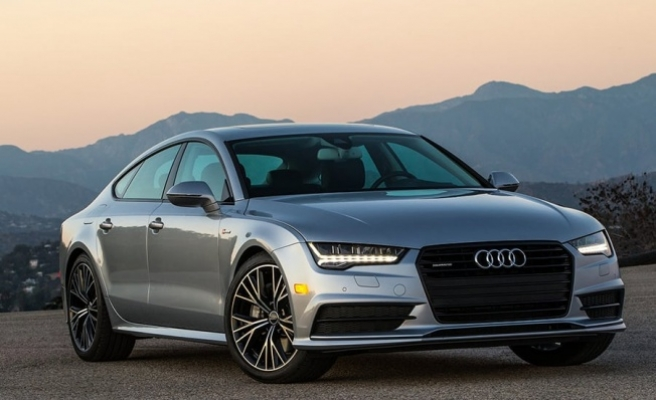audi: (466, 248, 532, 273)
